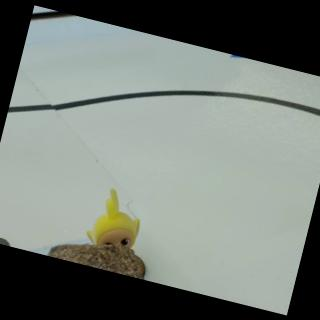teletubby: (86, 189, 139, 247)
